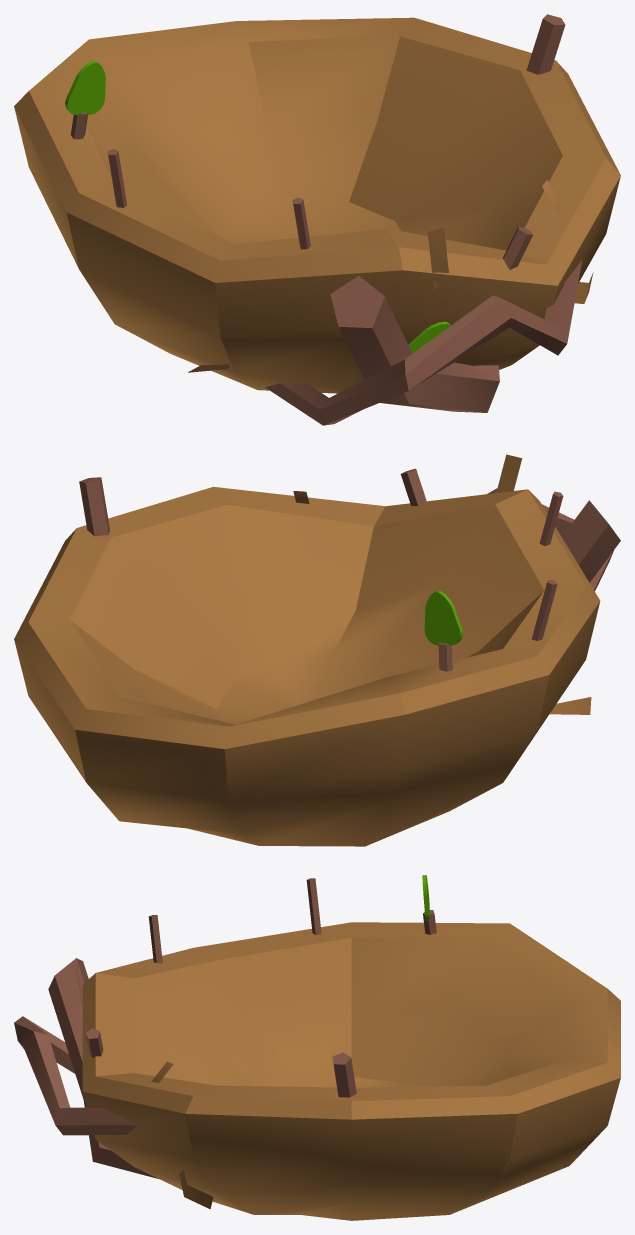
Rendered from Ms_Nid03.fbx.
3 renders of one model, top to bottom at view 1: azimuth 30°, elevation 25°; view 2: azimuth 150°, elevation 25°; view 3: azimuth 270°, elevation 25°, orthographic. The views are drawn at different scales.
Visible parts, largest first — view 1: Paille02, Branche702, Branche02, Feuille202, Branche402, Paillette902, Branche202, Branche502, Branche302; view 2: Paille02, Branche02, Feuille202, Branche402, Branche502, Paillette902, Branche202, Branche302, Branche702, Paillette802; view 3: Paille02, Branche702, Branche02, Branche402, Branche502, Paillette1002.
Boxes of the visible parts, bbox=[...] form: Paille02: bbox=[14, 17, 620, 393]; Branche702: bbox=[265, 260, 582, 425]; Branche02: bbox=[330, 275, 499, 412]; Feuille202: bbox=[65, 61, 105, 115]; Branche402: bbox=[526, 14, 565, 74]; Paillette902: bbox=[427, 228, 448, 290]; Branche202: bbox=[503, 226, 533, 269]; Branche502: bbox=[107, 148, 126, 207]; Branche302: bbox=[292, 197, 310, 249]; Paille02: bbox=[14, 487, 600, 846]; Branche02: bbox=[562, 500, 620, 582]; Feuille202: bbox=[424, 591, 462, 645]; Branche402: bbox=[79, 477, 109, 536]; Branche502: bbox=[531, 579, 557, 640]; Paillette902: bbox=[496, 454, 522, 492]; Branche202: bbox=[400, 468, 426, 505]; Branche302: bbox=[539, 491, 563, 545]; Branche702: bbox=[487, 488, 613, 591]; Paillette802: bbox=[549, 697, 591, 714]; Paille02: bbox=[82, 922, 620, 1220]; Branche702: bbox=[14, 1016, 137, 1135]; Branche02: bbox=[48, 958, 158, 1178]; Branche402: bbox=[332, 1052, 356, 1097]; Branche502: bbox=[306, 878, 321, 934]; Paillette1002: bbox=[179, 1170, 213, 1209].
Size of the model in its own units: 0.3148 by 0.181 by 0.3993.
